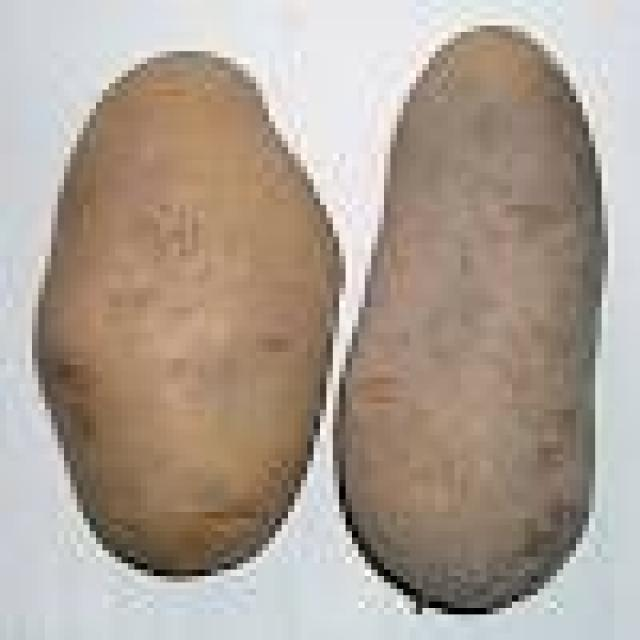Potato: (36, 18, 358, 585), (339, 0, 618, 617)
